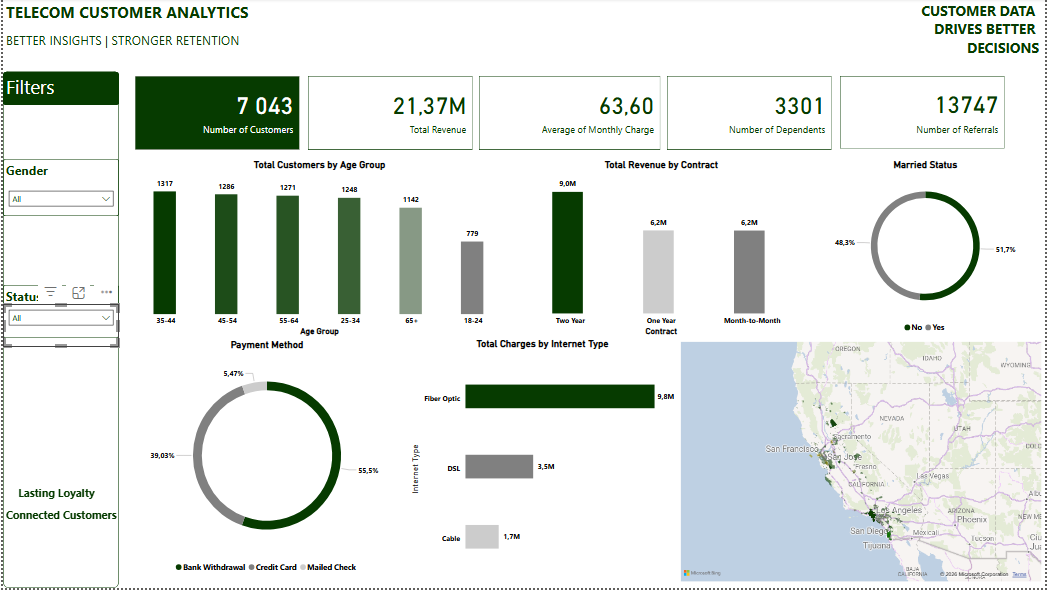

What the dashboard file says about the page in this screenshot:
{"tool":"powerbi","page":{"name":"Page 1","canvas":[1800,1020],"ordinal":0},"visuals":[{"type":"shape","box":[0,126.2,200.5,893.8],"z":0},{"type":"shape","box":[0,496.2,200.5,91.6],"z":1000},{"type":"shape","box":[0,278.3,200.5,98.5],"z":2000},{"type":"cardVisual","fields":{"Data":["CountNonNull(Table1.Customer ID)"]},"box":[222.9,129.4,295.7,138.3],"z":3000},{"type":"filledMap","fields":{"Category":["Table1.City"],"Y":["Avg(Table1.Latitude)"],"X":["Avg(Table1.Longitude)"]},"box":[1166.9,589.5,632.7,423.6],"z":4000},{"type":"cardVisual","fields":{"Data":["Avg(Table1.Monthly Charge)"]},"box":[817.8,129.7,324,138],"z":5000},{"type":"barChart","title":"Total Charges by Internet Type","fields":{"Category":["Table1.Internet Type"],"Y":["Sum(Table1.Total Charges)"]},"box":[700.2,587.8,465.1,425.3],"z":6000},{"type":"donutChart","title":"Payment Method","fields":{"Y":["CountNonNull(Table1.Payment Method)"],"Category":["Table1.Payment Method"]},"box":[212.6,589.5,487.5,413.2],"z":7000},{"type":"cardVisual","fields":{"Data":["Sum(Table1.Total Revenue)"]},"box":[522.9,129.4,295.7,138.3],"z":8000},{"type":"cardVisual","fields":{"Data":["Sum(Table1.Number of Referrals)"]},"box":[1441.8,129.7,295.6,136.6],"z":9000},{"type":"cardVisual","fields":{"Data":["Sum(Table1.Number of Dependents)"]},"box":[1142,129.4,295.7,138.3],"z":10000},{"type":"shape","box":[0,0,1800,100.6],"z":11000},{"type":"shape","box":[0,127.9,200.5,57.1],"z":12000},{"type":"slicer","fields":{"Values":["Table1.Customer Status"]},"box":[0,529,200.5,74.3],"z":13000},{"type":"slicer","fields":{"Values":["Table1.Gender"]},"box":[0,323.3,200.5,70.9],"z":14000},{"type":"donutChart","title":"Married Status","fields":{"Category":["Table1.Married"],"Y":["CountNonNull(Table1.Married)"]},"box":[1393.6,278.7,402.1,310.6],"z":15000},{"type":"clusteredColumnChart","fields":{"Y":["Sum(Table1.Total Revenue)"],"Category":["Table1.Contract"]},"box":[880.9,278.7,512.8,310],"z":16000},{"type":"textbox","box":[0,125.8,158.7,58.1],"z":17000},{"type":"textbox","box":[0,278.3,157.3,44.9],"z":18000},{"type":"textbox","box":[0,495.5,156.8,44.5],"z":19000},{"type":"clusteredColumnChart","fields":{"Category":["Table1.Age Group"],"Y":["Table1.Total Customers"]},"box":[212.6,278.3,669.1,311.2],"z":20000},{"type":"shape","box":[5.2,779.7,195.4,223],"z":29000},{"type":"textbox","box":[0,0,551.6,100.6],"z":32000},{"type":"textbox","box":[1289.7,50.1,506.5,50.1],"z":33000},{"type":"textbox","box":[6.9,892.1,229.9,70.9],"z":34000},{"type":"textbox","box":[10.4,838.5,164.2,38],"z":35000}]}

Visuals, with their boxes in screenshot pixels (x1, y1, x2, y2), scaled from the page's 1800x1020 canvas onto the 1047x590 screenshot:
shape: Rect(0, 73, 117, 589)
shape: Rect(0, 287, 117, 340)
shape: Rect(0, 161, 117, 218)
cardVisual - CountNonNull(Table1.Customer ID): Rect(130, 75, 302, 155)
filledMap - Table1.City x Avg(Table1.Latitude): Rect(679, 341, 1046, 586)
cardVisual - Avg(Table1.Monthly Charge): Rect(476, 75, 664, 155)
"Total Charges by Internet Type" barChart: Rect(407, 340, 678, 586)
"Payment Method" donutChart: Rect(124, 341, 407, 580)
cardVisual - Sum(Table1.Total Revenue): Rect(304, 75, 476, 155)
cardVisual - Sum(Table1.Number of Referrals): Rect(839, 75, 1011, 154)
cardVisual - Sum(Table1.Number of Dependents): Rect(664, 75, 836, 155)
shape: Rect(0, 0, 1046, 58)
shape: Rect(0, 74, 117, 107)
slicer - Table1.Customer Status: Rect(0, 306, 117, 349)
slicer - Table1.Gender: Rect(0, 187, 117, 228)
"Married Status" donutChart: Rect(811, 161, 1044, 341)
clusteredColumnChart - Sum(Table1.Total Revenue) x Table1.Contract: Rect(512, 161, 811, 341)
textbox: Rect(0, 73, 92, 106)
textbox: Rect(0, 161, 91, 187)
textbox: Rect(0, 287, 91, 312)
clusteredColumnChart - Table1.Age Group x Table1.Total Customers: Rect(124, 161, 513, 341)
shape: Rect(3, 451, 117, 580)
textbox: Rect(0, 0, 321, 58)
textbox: Rect(750, 29, 1045, 58)
textbox: Rect(4, 516, 138, 557)
textbox: Rect(6, 485, 102, 507)
